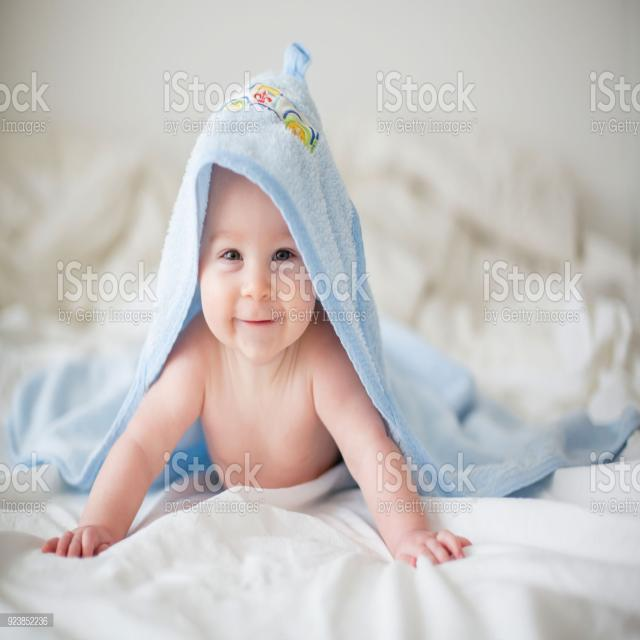non-dog: (39, 161, 472, 567)
